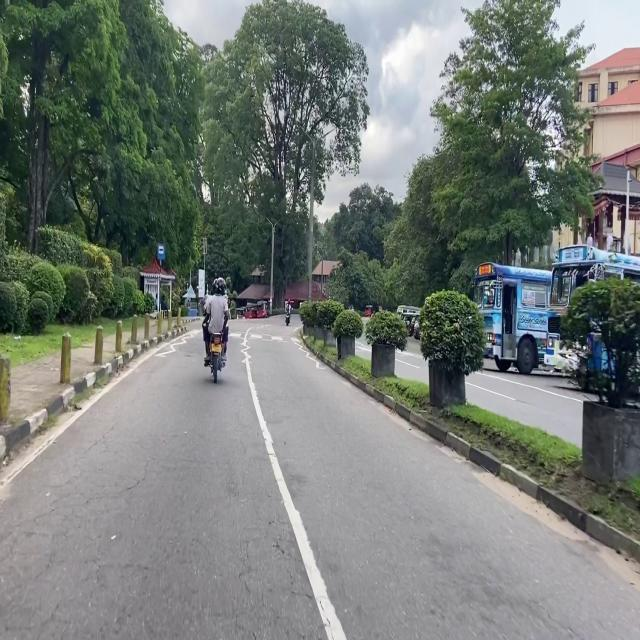bus: (544, 245, 640, 390), (474, 263, 550, 374)
motorcycle: (210, 334, 225, 383), (286, 312, 290, 326)
person: (203, 277, 229, 366), (161, 295, 168, 311), (285, 299, 290, 313)
three wheeler: (403, 312, 418, 329), (408, 314, 419, 335), (257, 301, 267, 318), (245, 303, 256, 318), (364, 305, 372, 317)
